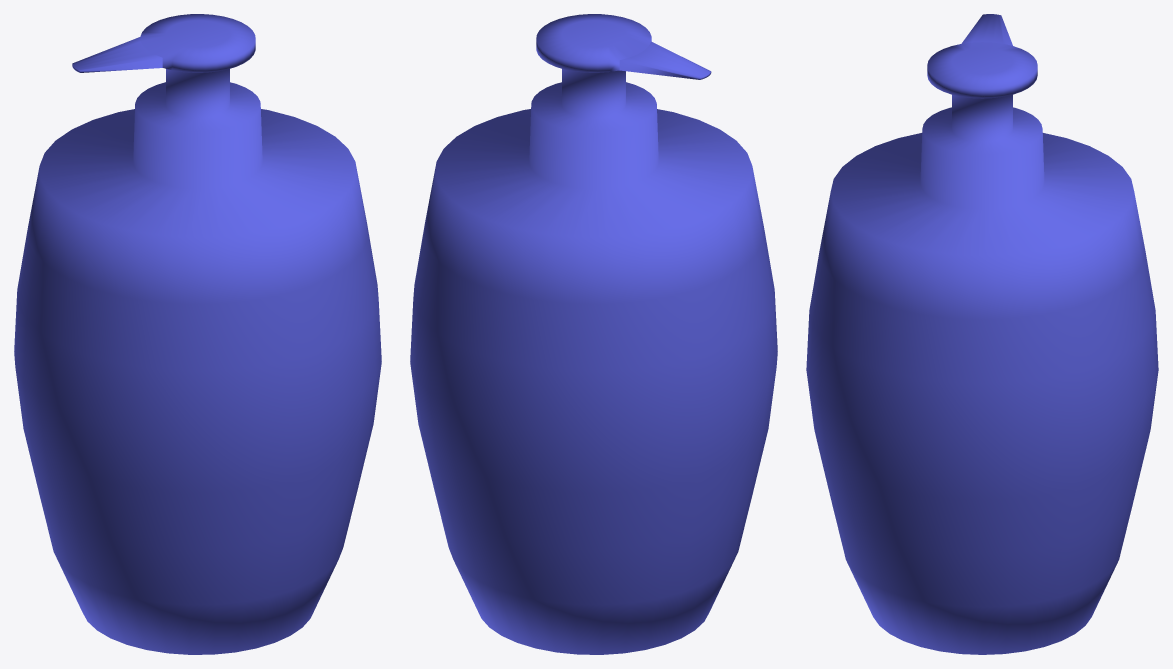
The model's file is SaponeLiquidoLavanda.fbx.
3 renders of one model, left to right at view 1: azimuth 30°, elevation 25°; view 2: azimuth 150°, elevation 25°; view 3: azimuth 270°, elevation 25°, orthographic. The views are drawn at different scales.
Parts seen in each view (by area): view 1: SaponeLiquido; view 2: SaponeLiquido; view 3: SaponeLiquido.
Boxes of the visible parts, x1,y1,x2,y2 form: SaponeLiquido: [14, 14, 381, 654]; SaponeLiquido: [410, 14, 777, 654]; SaponeLiquido: [806, 14, 1158, 654].
Bounding box in the file's own units: 272 × 465 × 272.
